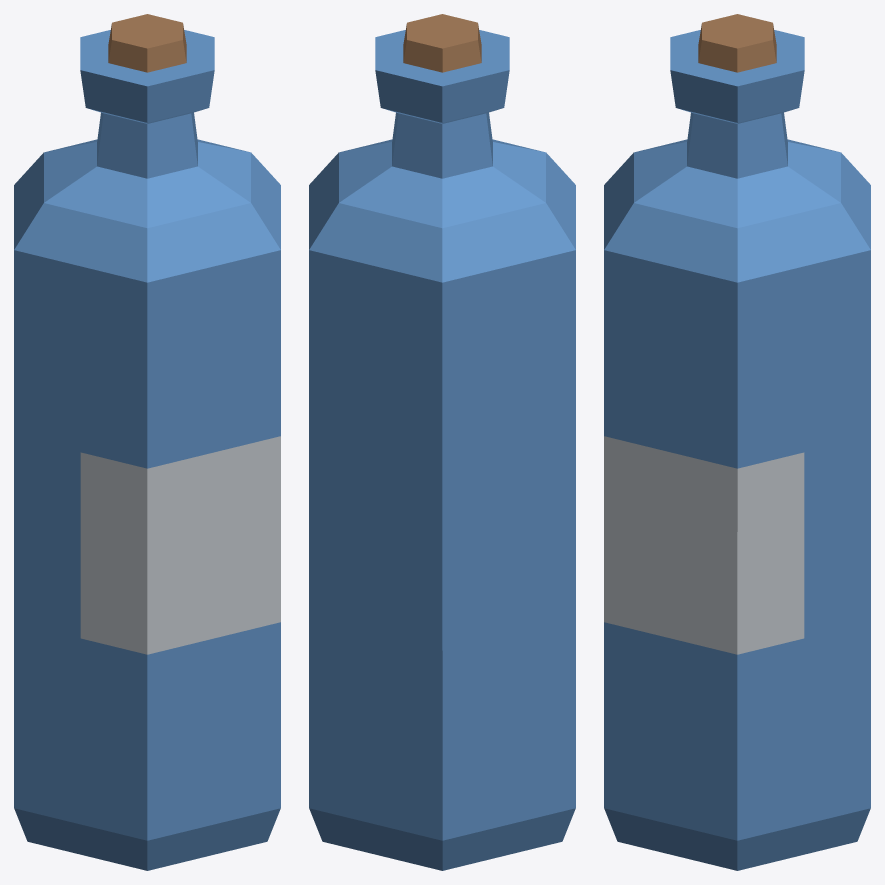
Rendered from Blue_Potion_1(Label).fbx.
3 views of the same model, side by side, from view 1: azimuth 30°, elevation 25°; view 2: azimuth 150°, elevation 25°; view 3: azimuth 270°, elevation 25° (orthographic).
Parts seen in each view (by area): view 1: Blue_Potion_1(Label); view 2: Blue_Potion_1(Label); view 3: Blue_Potion_1(Label).
Part boxes in pixels (x1=…): Blue_Potion_1(Label): x1=14, y1=14, x2=280, y2=870; Blue_Potion_1(Label): x1=309, y1=14, x2=575, y2=870; Blue_Potion_1(Label): x1=604, y1=14, x2=870, y2=870.
Bounding box in the file's own units: 13.2 × 36.92 × 11.43.
